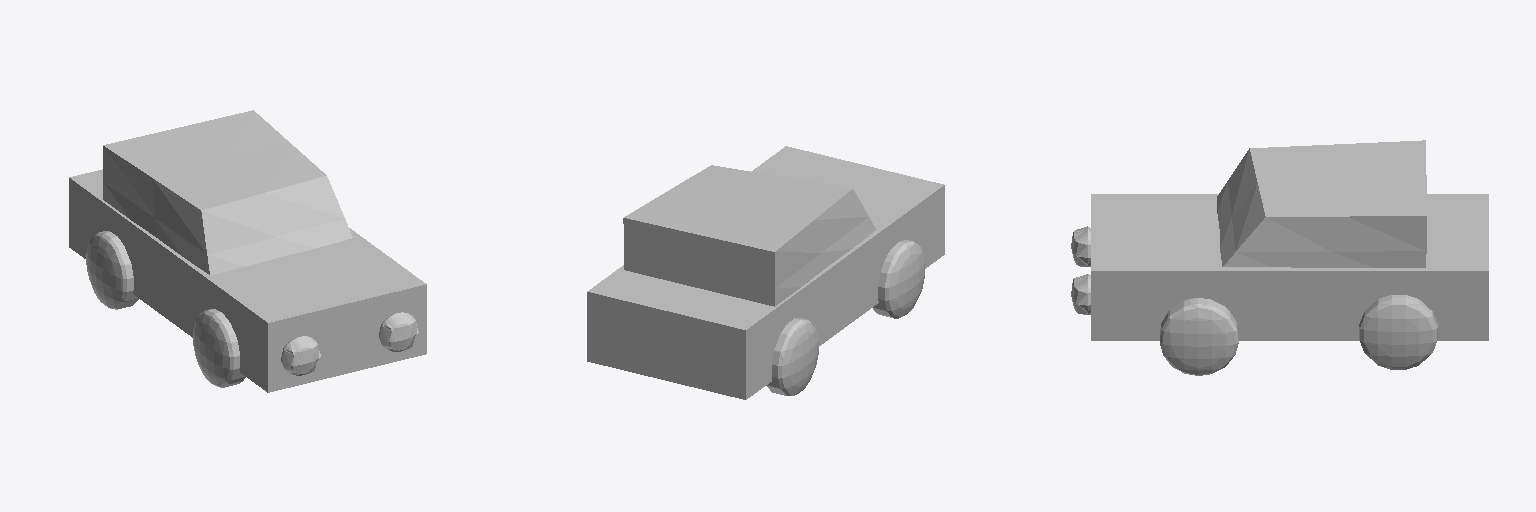
Rendered from cochev1.obj.
3 views of the same model, side by side, from view 1: azimuth 30°, elevation 25°; view 2: azimuth 150°, elevation 25°; view 3: azimuth 270°, elevation 25° (orthographic).
Visible parts, largest first — view 1: Cube, Cube.001, MetaBola; view 2: Cube, Cube.001, MetaBola; view 3: Cube, Cube.001, MetaBola.
Part boxes in pixels (left/top/right/bottom): Cube: left=69, top=169, right=426, bottom=392; Cube.001: left=103, top=110, right=352, bottom=274; MetaBola: left=86, top=231, right=418, bottom=387; Cube: left=587, top=146, right=944, bottom=399; Cube.001: left=623, top=165, right=875, bottom=306; MetaBola: left=766, top=240, right=924, bottom=395; Cube: left=1091, top=194, right=1488, bottom=340; Cube.001: left=1217, top=140, right=1426, bottom=267; MetaBola: left=1071, top=226, right=1437, bottom=375.
Bounding box in the file's own units: 4.69 × 3.53 × 8.71.